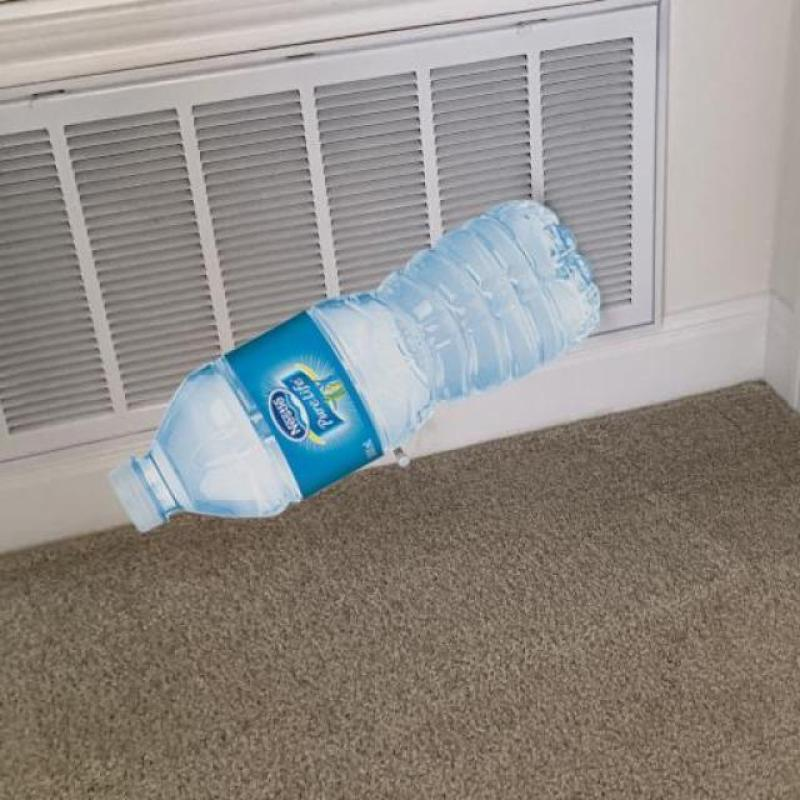botella: (106, 200, 606, 540)
